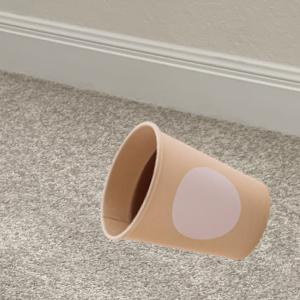cup: (100, 122, 273, 261)
